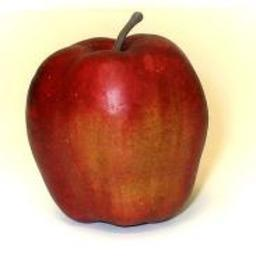apple: (23, 11, 209, 227)
